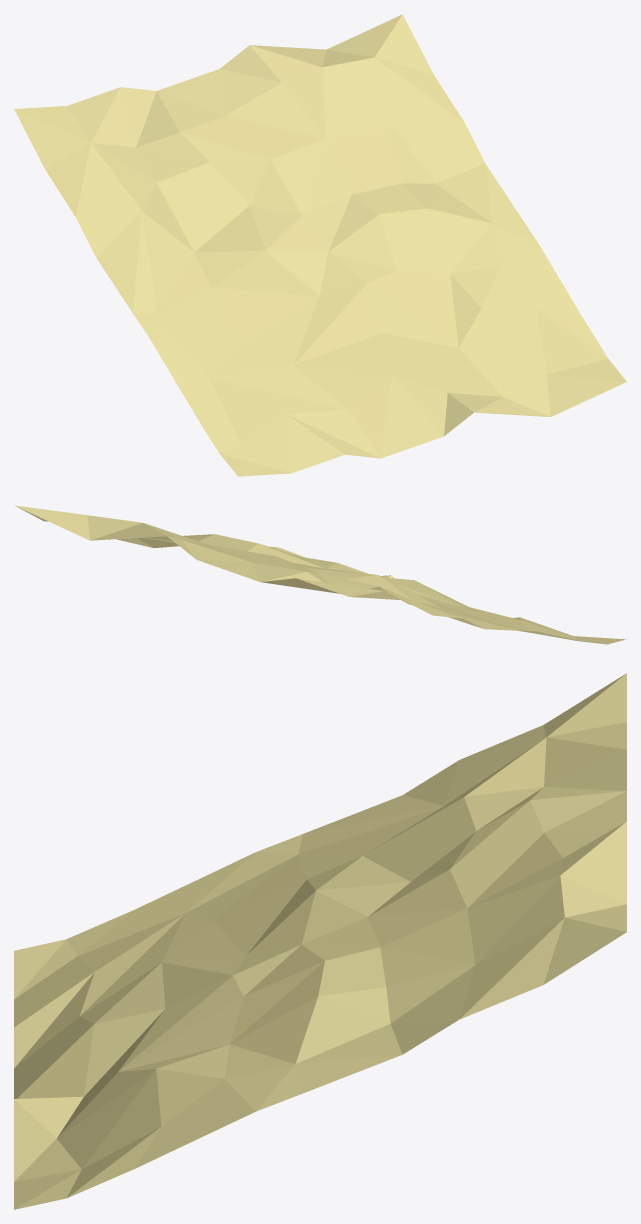
Rendered from Ground3.fbx.
3 views of the same model, one above another, from view 1: azimuth 30°, elevation 25°; view 2: azimuth 150°, elevation 25°; view 3: azimuth 270°, elevation 25° (orthographic). The views are drawn at different scales.
Parts seen in each view (by area): view 1: Ground3; view 2: Ground3; view 3: Ground3.
Boxes of the visible parts, x1=… form: Ground3: x1=14, y1=14, x2=626, y2=476; Ground3: x1=14, y1=505, x2=625, y2=644; Ground3: x1=14, y1=673, x2=626, y2=1209.
Size of the model in its own units: 4.01 by 2.23 by 4.
